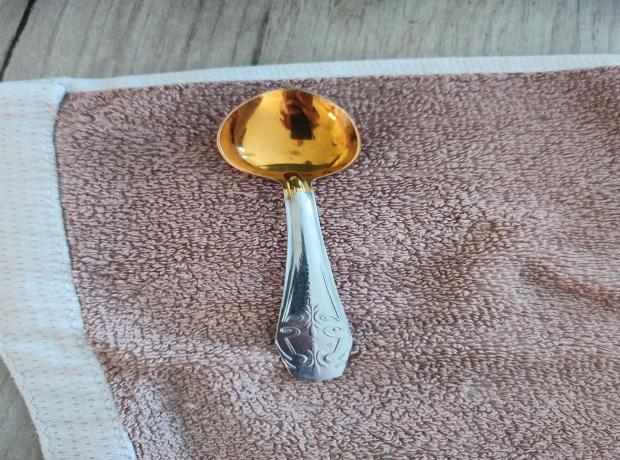metal: (213, 88, 365, 382)
